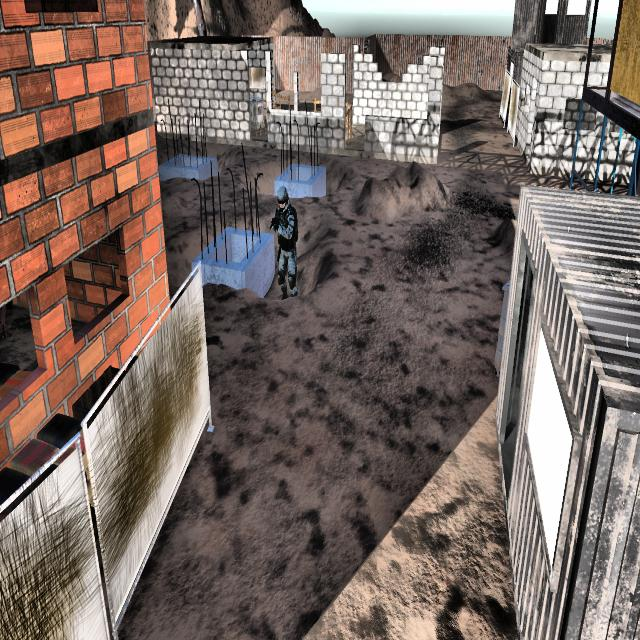bad: (261, 176, 305, 303)
